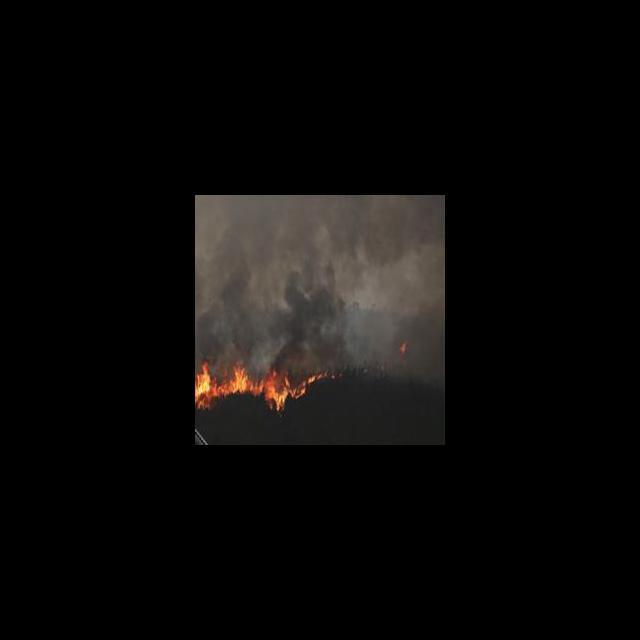Fire: (196, 362, 328, 421)
Smoke: (196, 195, 443, 358)
